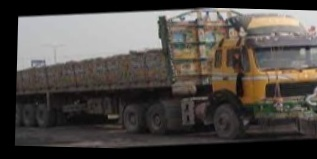truck: (15, 3, 317, 154)
